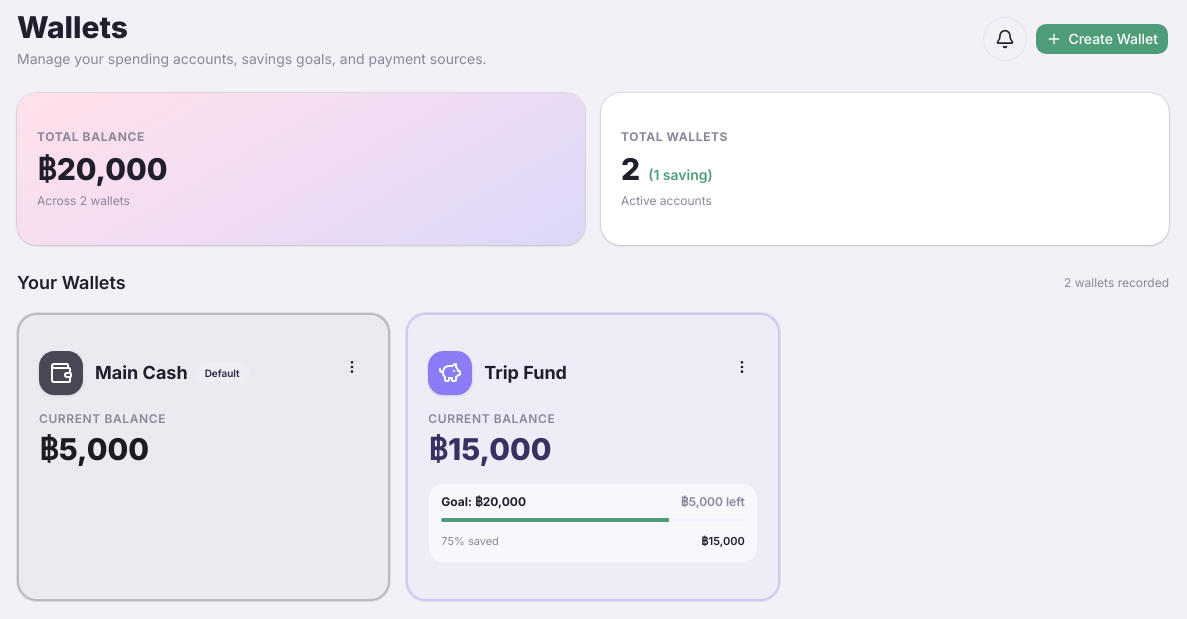
Test case: WalletManagementPage UI › marks no wallet card as active and offers no Select as Active action
Click the button named "Wallet actions" next to "Default" at [352, 367], box [336, 351, 368, 383]
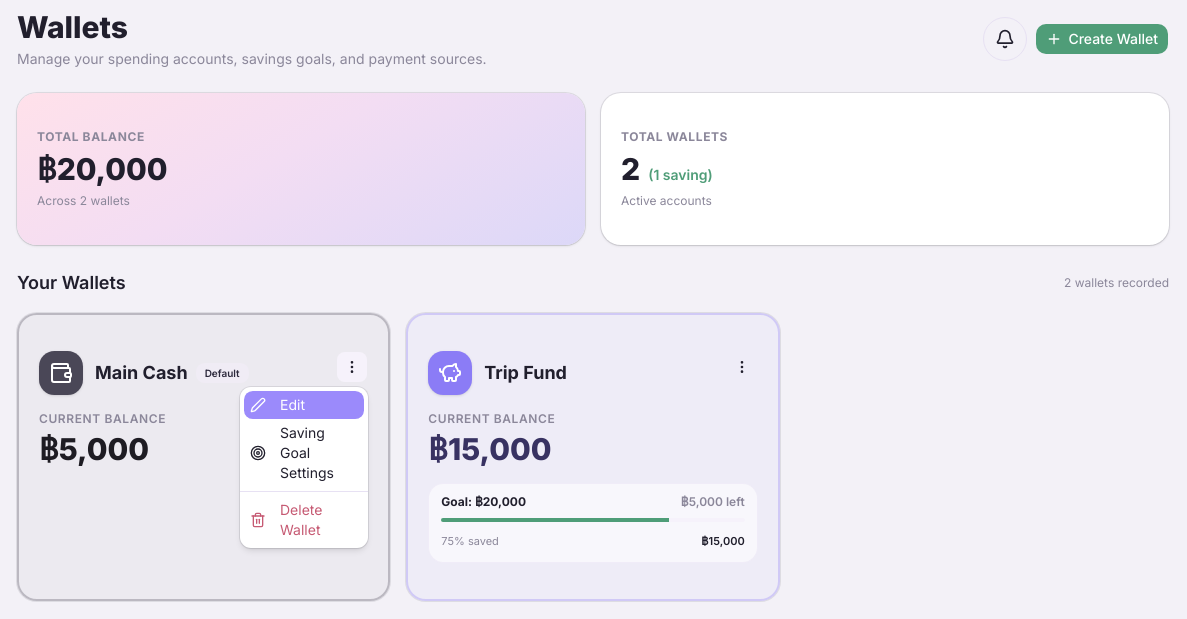
Now the menu item "Edit" is shown, box [244, 391, 364, 419]
